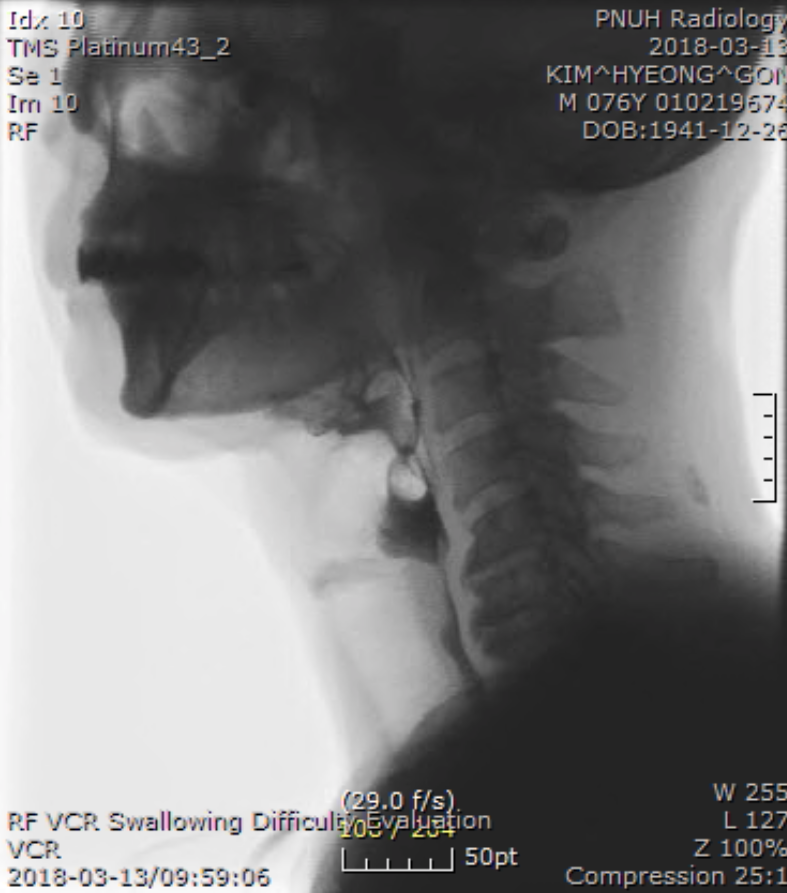dros: (409, 511, 458, 577)
food: (354, 456, 454, 571)
uros: (307, 392, 389, 459)
